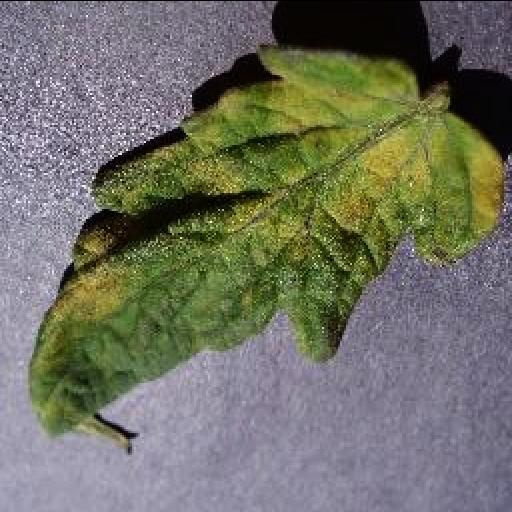disease_tomato: (30, 44, 506, 440)
